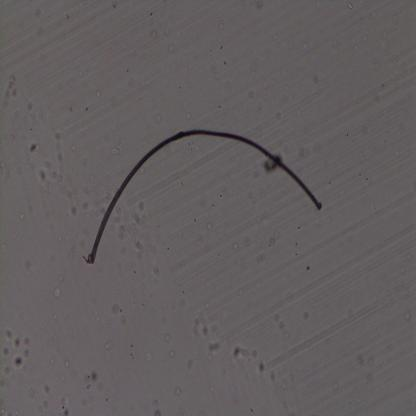Background material: (28, 132, 66, 186), (114, 204, 150, 260), (0, 325, 30, 371), (191, 314, 222, 354), (233, 346, 267, 376), (30, 383, 52, 412), (84, 373, 104, 394), (272, 311, 286, 339), (4, 74, 18, 102), (22, 254, 38, 272), (110, 139, 128, 155), (110, 304, 125, 323), (56, 396, 70, 415), (260, 156, 275, 172), (150, 108, 162, 124), (23, 197, 35, 213), (179, 357, 195, 369), (65, 206, 78, 219), (250, 0, 264, 12), (387, 12, 399, 26), (18, 206, 28, 222), (172, 385, 183, 399), (356, 350, 366, 365), (300, 307, 311, 320), (402, 310, 412, 324), (56, 270, 66, 284), (79, 199, 90, 211), (233, 284, 244, 295), (64, 188, 75, 199), (372, 56, 380, 70), (258, 186, 266, 200), (54, 287, 63, 299), (138, 93, 150, 102), (270, 368, 277, 383), (184, 110, 193, 121), (24, 100, 32, 112), (268, 235, 276, 247), (151, 29, 158, 42), (257, 255, 268, 263), (232, 240, 240, 251), (204, 300, 212, 311), (104, 343, 114, 351), (145, 352, 153, 362), (190, 144, 199, 152), (204, 222, 213, 230), (314, 74, 320, 86), (247, 89, 254, 99), (165, 27, 172, 37), (163, 332, 171, 340), (71, 142, 77, 152), (129, 351, 135, 361), (154, 408, 161, 416), (347, 1, 353, 10), (168, 349, 174, 358), (219, 42, 224, 52), (168, 45, 175, 52), (406, 250, 412, 258), (94, 88, 100, 96), (382, 135, 387, 144), (222, 59, 228, 66), (218, 102, 223, 110), (305, 264, 310, 272), (247, 406, 253, 412), (68, 106, 74, 112), (154, 401, 159, 407), (292, 242, 299, 246), (85, 106, 89, 112), (294, 251, 298, 257), (177, 86, 181, 92), (298, 225, 302, 230), (219, 194, 223, 198)
Microfibre: (83, 129, 322, 266)
